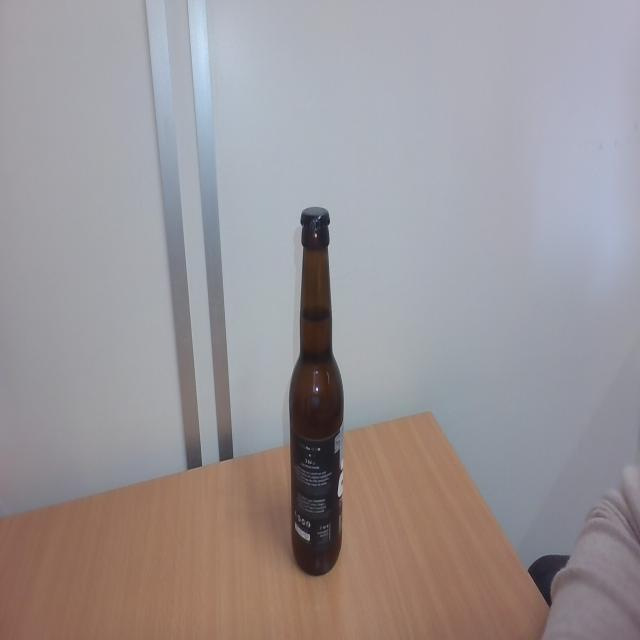Bottle: (287, 230, 345, 577)
Cap: (298, 200, 332, 232)
Label: (290, 428, 346, 548)
